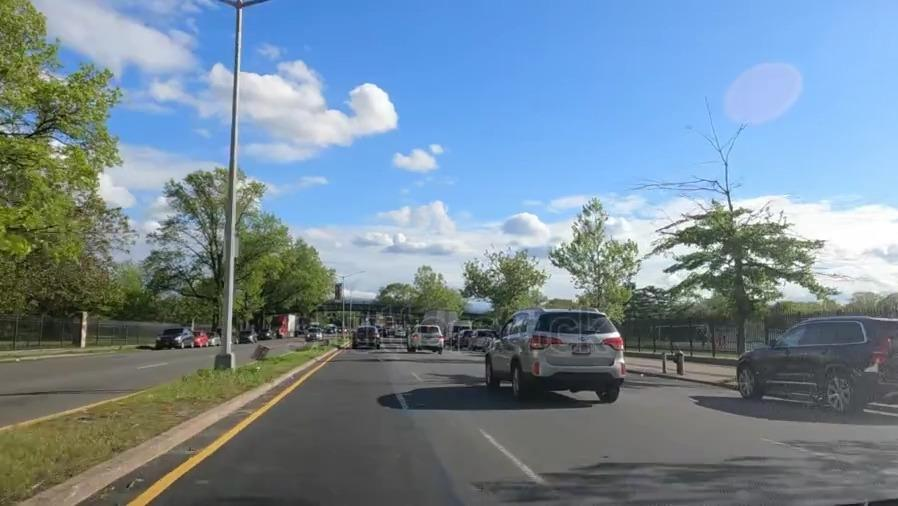car: (734, 314, 898, 423), (484, 310, 627, 395), (402, 324, 444, 352), (150, 327, 195, 351), (350, 327, 379, 351), (472, 327, 488, 350)
wheel: (821, 371, 858, 415), (737, 363, 756, 400)
